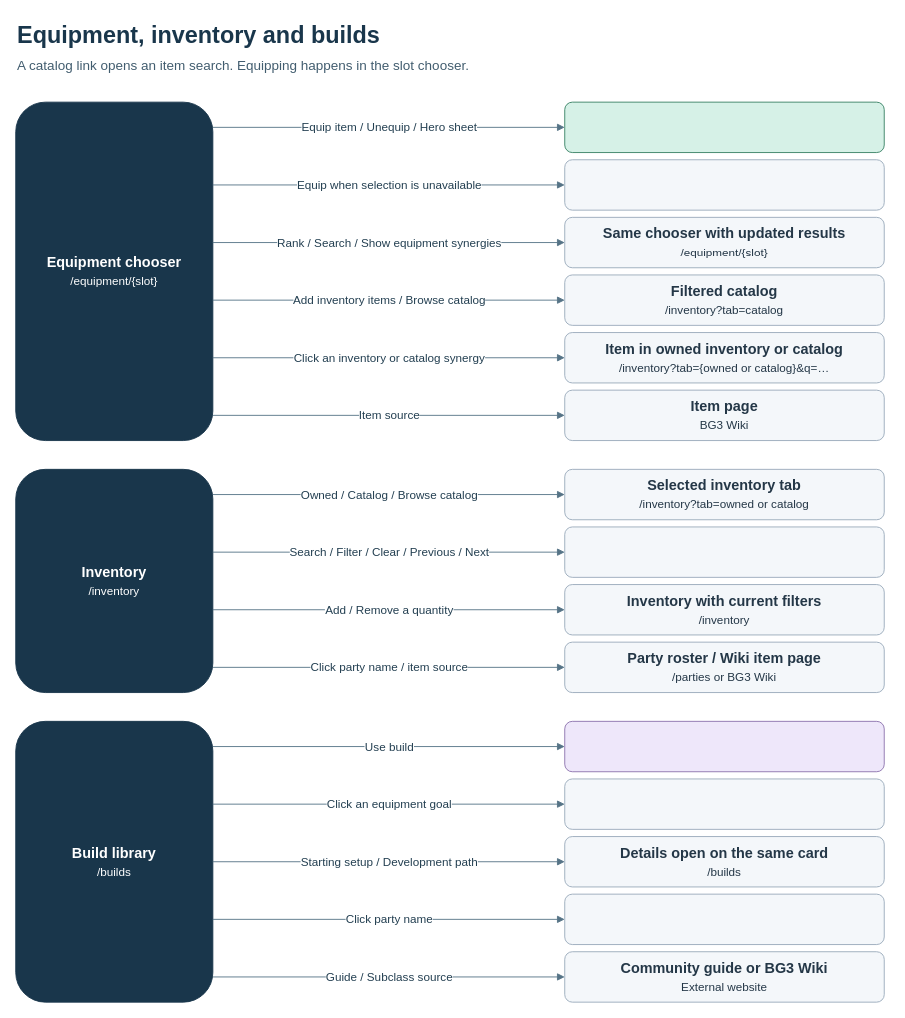
This 905x1018 diagram has some shape labels left out. The centre of each missing label's shape, as x and y in pixels:
Catalog search for the item /inventory?tab=catalog&q=…: (x=724, y=803)
Hero sheet /sheet: (x=724, y=127)
Matching inventory page /inventory: (x=724, y=551)
New hero wizard with starting setup /heroes/new?build={id}: (x=724, y=746)
Party roster /parties: (x=724, y=919)
Same chooser with a message /equipment/{slot}?heroId=…: (x=724, y=184)
